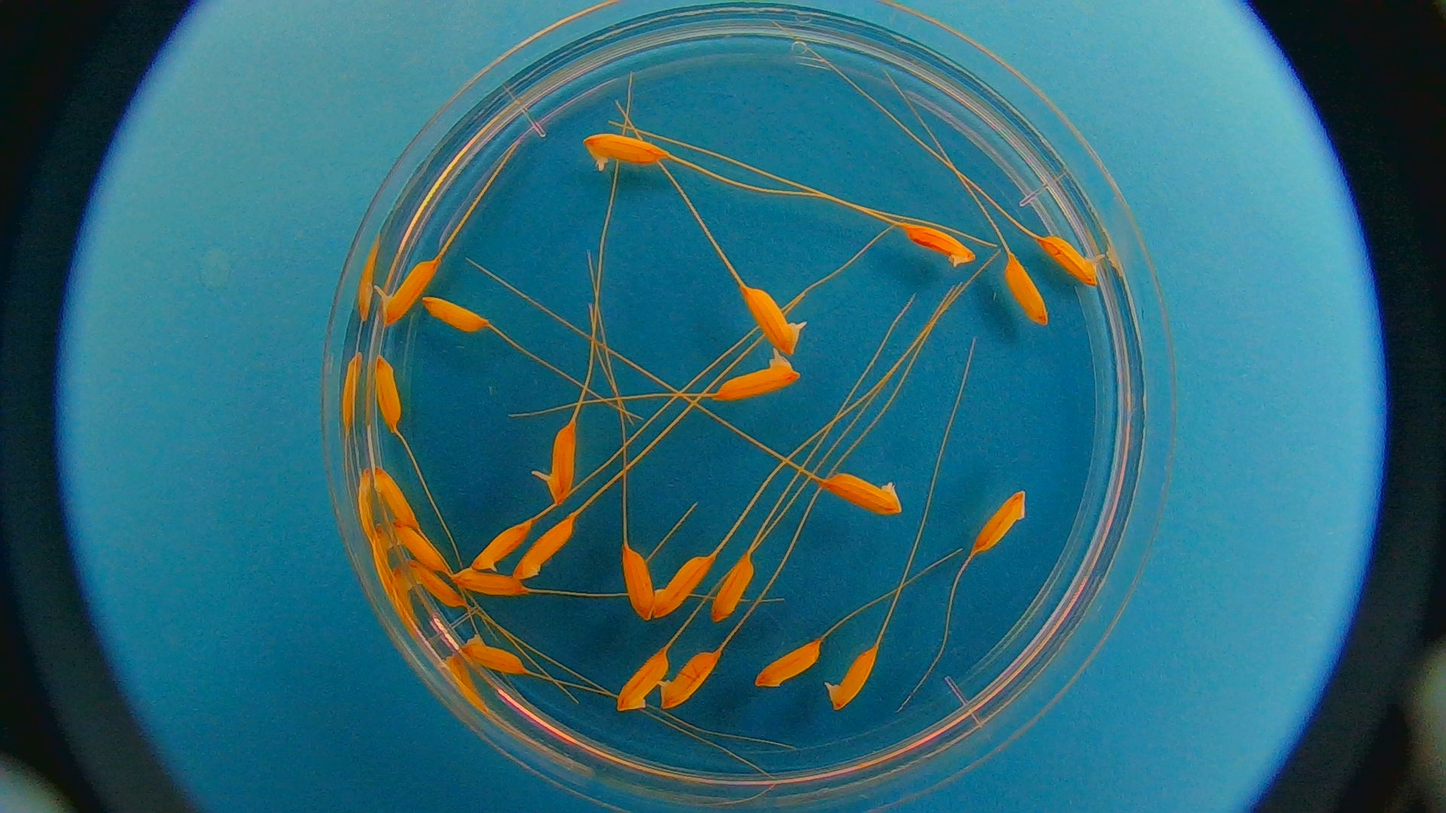no: (650, 538, 714, 621), (509, 515, 585, 584), (389, 519, 462, 589), (889, 219, 978, 269), (579, 131, 671, 179), (753, 640, 827, 697), (614, 647, 676, 714), (654, 651, 723, 711), (974, 486, 1028, 558), (1001, 250, 1051, 327), (825, 647, 883, 711), (418, 292, 496, 336), (822, 474, 899, 518), (708, 553, 755, 625), (374, 354, 413, 437), (616, 538, 654, 622), (459, 635, 526, 681), (371, 465, 417, 531), (405, 559, 460, 607), (455, 568, 529, 601)
yes: (737, 286, 803, 358), (380, 255, 440, 325), (1039, 230, 1103, 288), (465, 517, 530, 573), (715, 363, 798, 400), (547, 424, 579, 506)
